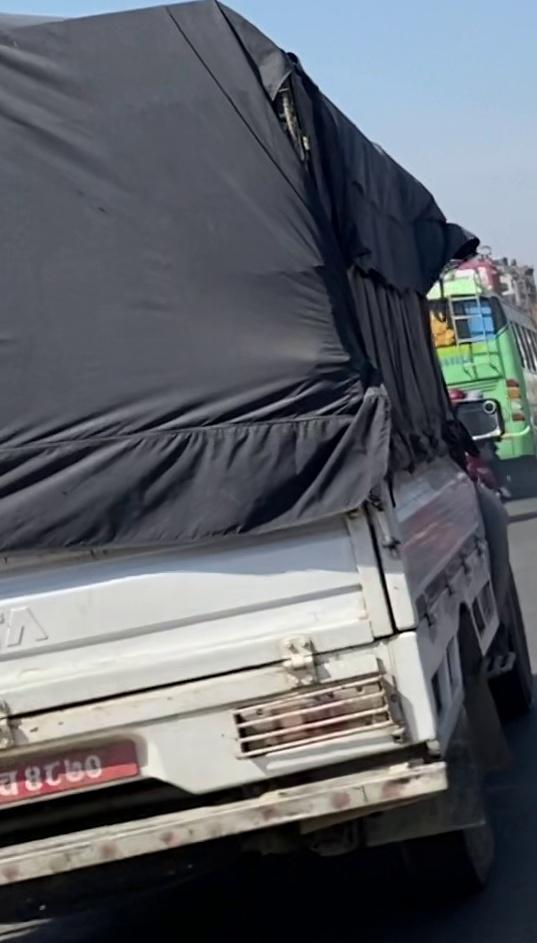license-plate: (0, 722, 141, 826)
